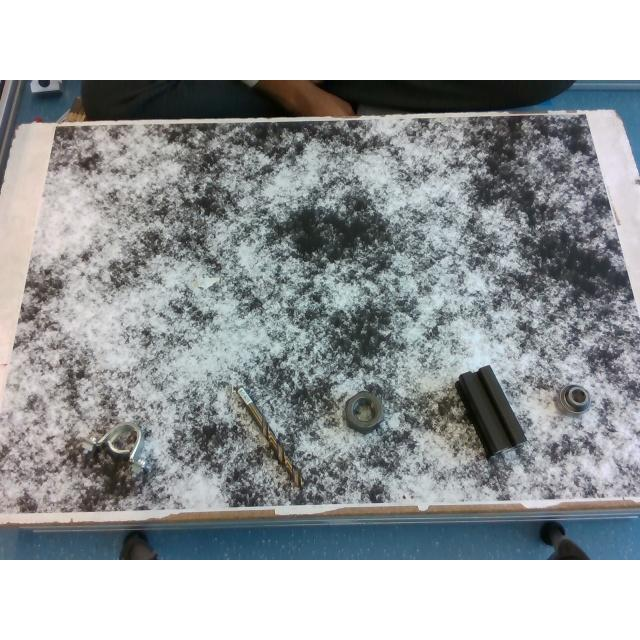Bearing2: (554, 385, 590, 413)
Drill: (232, 384, 304, 488)
Housing: (84, 422, 144, 471)
M30: (344, 392, 384, 432)
S40_40_B: (457, 365, 525, 457)
